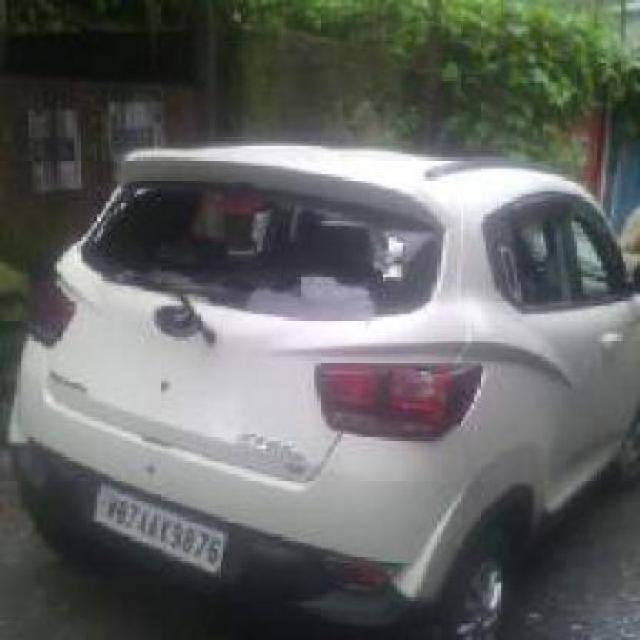damaged-rear-window: (84, 174, 440, 324)
